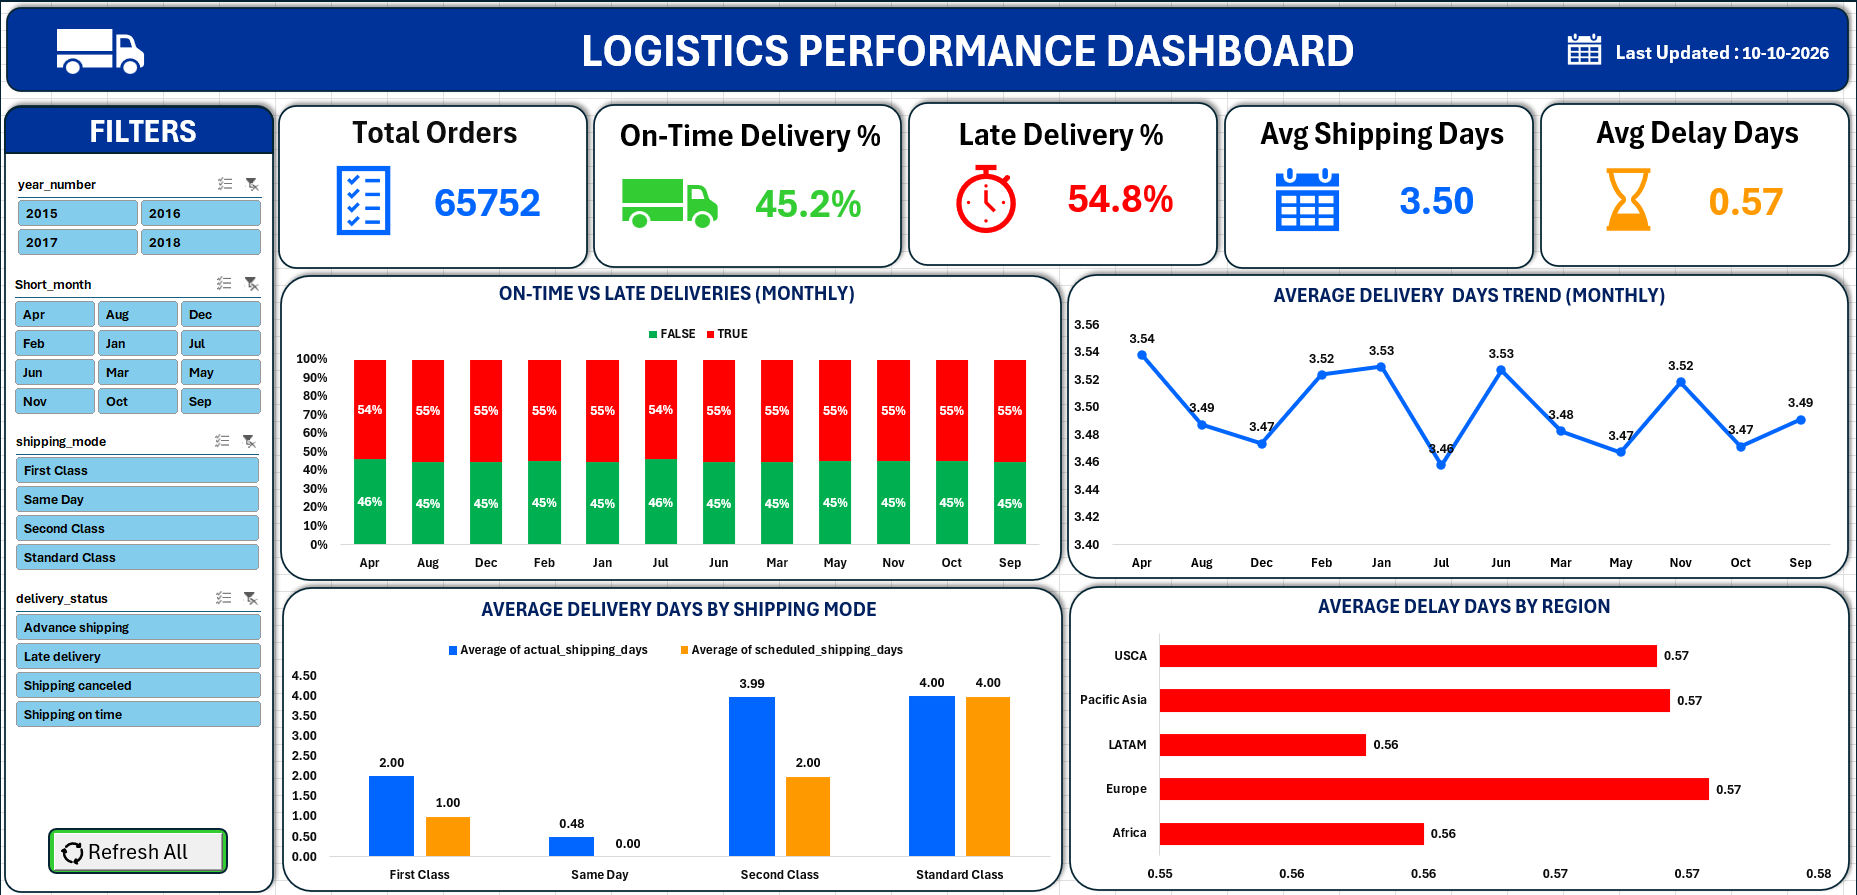

The page's visual inventory and layout, read from the dashboard file:
{"tool":"powerbi","page":{"name":"Page 4","canvas":[2800,1500],"ordinal":3},"visuals":[{"type":"columnChart","title":"Monthly Delivery Performance","fields":{"Category":["gold fact_order_items.calendar_date.Variation.Date Hierarchy.Month"],"Series":["gold fact_order_items.delivery_status"],"Y":["Count(gold fact_order_items.order_id)"]},"box":[6.4,491.8,924,500],"z":0},{"type":"lineChart","title":"Average Shipping Days by Month","fields":{"Category":["gold fact_order_items.calendar_date.Variation.Date Hierarchy.Month"],"Y":["Avg(gold fact_order_items.actual_shipping_days)"]},"box":[940.6,491.8,924,500],"z":1000},{"type":"donutChart","title":"Delivery Status","fields":{"Category":["gold fact_order_items.delivery_status"],"Y":["Count(gold fact_order_items.order_id)"]},"box":[1874.8,491.8,924,500],"z":2000},{"type":"ribbonChart","title":"Shipping Mode Trends by Month","fields":{"Category":["gold fact_order_items.calendar_date.Variation.Date Hierarchy.Month"],"Y":["Count(gold fact_order_items.order_id)"],"Series":["gold fact_order_items.shipping_mode"]},"box":[1405.5,999.6,1390,500],"z":3000},{"type":"pivotTable","title":"Delivery Performance by Market & Shipping Mode","fields":{"Rows":["gold fact_order_items.market"],"Columns":["gold fact_order_items.shipping_mode"],"Values":["gold fact_order_items.late_delivery_risk_%"]},"box":[6.1,999.6,1390,500],"z":4000},{"type":"cardVisual","fields":{"Data":["Count(gold fact_order_items.order_id)"]},"box":[6.7,341.9,545,140],"z":5000},{"type":"cardVisual","fields":{"Data":["gold fact_order_items.On-Time Delivery %"]},"box":[568.5,342.1,545,140],"z":6000},{"type":"cardVisual","fields":{"Data":["gold fact_order_items.Late Delivery %"]},"box":[1130.4,342.1,545,140],"z":7000},{"type":"cardVisual","fields":{"Data":["Avg(gold fact_order_items.actual_shipping_days)"]},"box":[1692.2,342.1,545,140],"z":8000},{"type":"cardVisual","fields":{"Data":["gold fact_order_items.Avg Shipping Delay"]},"box":[2254.1,342.1,545,140],"z":9000},{"type":"slicer","fields":{"Values":["gold fact_order_items.calendar_date.Variation.Date Hierarchy.Year"]},"box":[6.4,233,545,115],"z":10000},{"type":"slicer","fields":{"Values":["gold fact_order_items.market"]},"box":[568.9,233,545,115],"z":11000},{"type":"slicer","fields":{"Values":["gold fact_order_items.region"]},"box":[1131.4,233,545,115],"z":12000},{"type":"slicer","fields":{"Values":["gold fact_order_items.shipping_mode"]},"box":[1693.9,233,545,115],"z":13000},{"type":"slicer","fields":{"Values":["gold fact_order_items.delivery_status"]},"box":[2256.4,233,542,115],"z":14000},{"type":"textbox","box":[407.9,32.3,706.8,105],"z":14001},{"type":"textbox","box":[408.7,137,1035.3,56.1],"z":14002}]}

Visuals, with their boxes on the page's 2800x1500 design canvas (x1, y1, x2, y2). These are canvas units, not pixel positions in the 1857x895 screenshot, which may show the page scaled, cropped or inside an application window:
"Monthly Delivery Performance" columnChart: <bbox>6, 492, 930, 992</bbox>
"Average Shipping Days by Month" lineChart: <bbox>941, 492, 1865, 992</bbox>
"Delivery Status" donutChart: <bbox>1875, 492, 2799, 992</bbox>
"Shipping Mode Trends by Month" ribbonChart: <bbox>1406, 1000, 2796, 1500</bbox>
"Delivery Performance by Market & Shipping Mode" pivotTable: <bbox>6, 1000, 1396, 1500</bbox>
cardVisual - Count(gold fact_order_items.order_id): <bbox>7, 342, 552, 482</bbox>
cardVisual - gold fact_order_items.On-Time Delivery %: <bbox>568, 342, 1114, 482</bbox>
cardVisual - gold fact_order_items.Late Delivery %: <bbox>1130, 342, 1675, 482</bbox>
cardVisual - Avg(gold fact_order_items.actual_shipping_days): <bbox>1692, 342, 2237, 482</bbox>
cardVisual - gold fact_order_items.Avg Shipping Delay: <bbox>2254, 342, 2799, 482</bbox>
slicer - gold fact_order_items.calendar_date.Variation.Date Hierarchy.Year: <bbox>6, 233, 551, 348</bbox>
slicer - gold fact_order_items.market: <bbox>569, 233, 1114, 348</bbox>
slicer - gold fact_order_items.region: <bbox>1131, 233, 1676, 348</bbox>
slicer - gold fact_order_items.shipping_mode: <bbox>1694, 233, 2239, 348</bbox>
slicer - gold fact_order_items.delivery_status: <bbox>2256, 233, 2798, 348</bbox>
textbox: <bbox>408, 32, 1115, 137</bbox>
textbox: <bbox>409, 137, 1444, 193</bbox>
